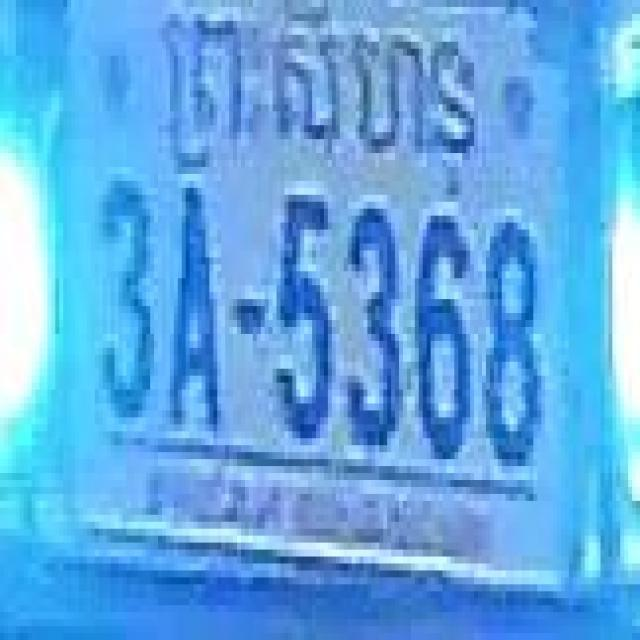Preah_Sihanouk: (158, 0, 476, 195)
